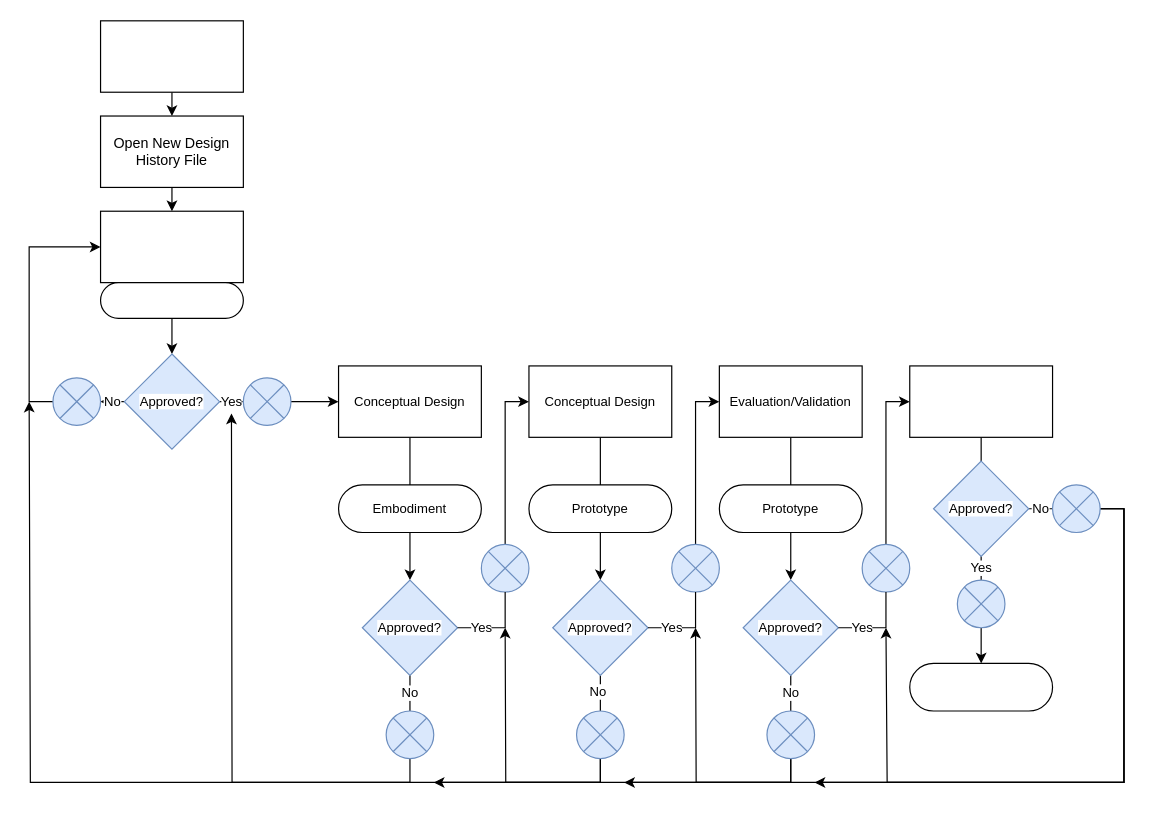
Some shapes in this 1154 by 813 pixel diagram are drawn without their labels. The box of each missing label's shape, as (x1, y1, x2, y2) in pixels:
Appoint Lead: (99, 20, 243, 92)
Clarification: (99, 210, 243, 283)
Product: (909, 662, 1053, 711)
Product Specification: (99, 281, 243, 318)
Release: (909, 365, 1053, 437)
